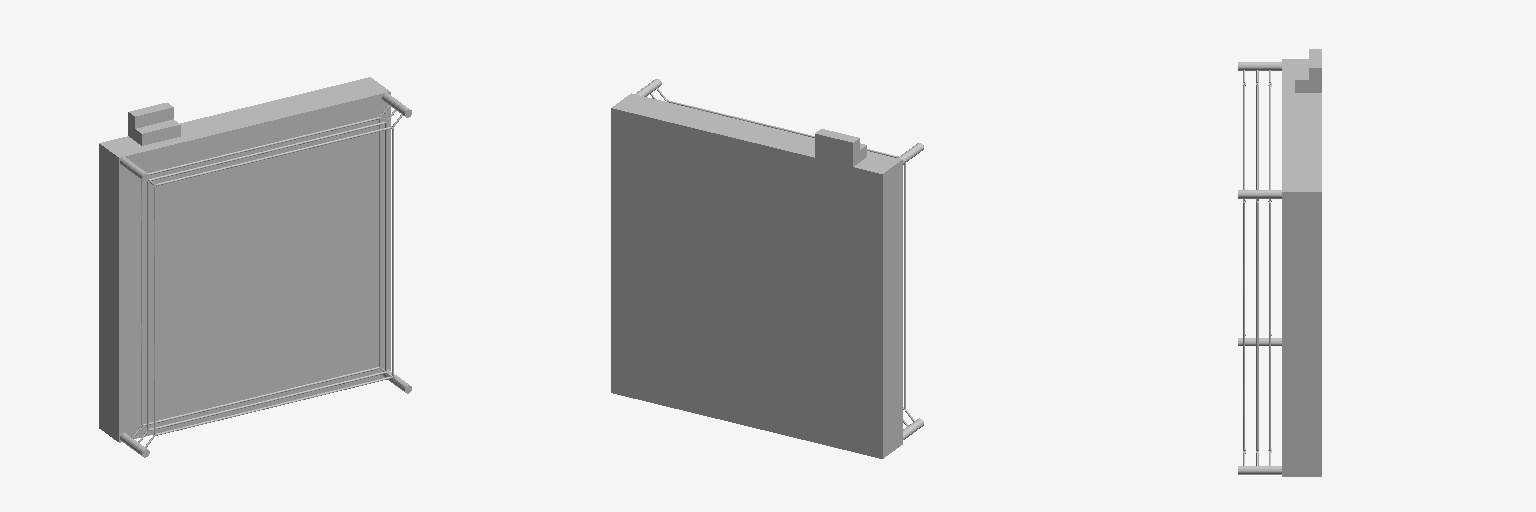
Rendered from boxingring.obj.
3 views of the same model, side by side, from view 1: azimuth 30°, elevation 25°; view 2: azimuth 150°, elevation 25°; view 3: azimuth 270°, elevation 25° (orthographic).
Visible parts, largest first — view 1: locator7_Mesh, pCube3_Mesh.001; view 2: locator7_Mesh, pCube3_Mesh.001; view 3: locator7_Mesh, pCube3_Mesh.001.
Part boxes in pixels (bbox=[...]): locator7_Mesh: bbox=[99, 77, 411, 457]; pCube3_Mesh.001: bbox=[128, 103, 180, 145]; locator7_Mesh: bbox=[611, 79, 923, 458]; pCube3_Mesh.001: bbox=[815, 129, 866, 166]; locator7_Mesh: bbox=[1238, 59, 1321, 476]; pCube3_Mesh.001: bbox=[1295, 49, 1321, 92].
Size of the model in its own units: 0.7014 by 0.7637 by 0.1897.